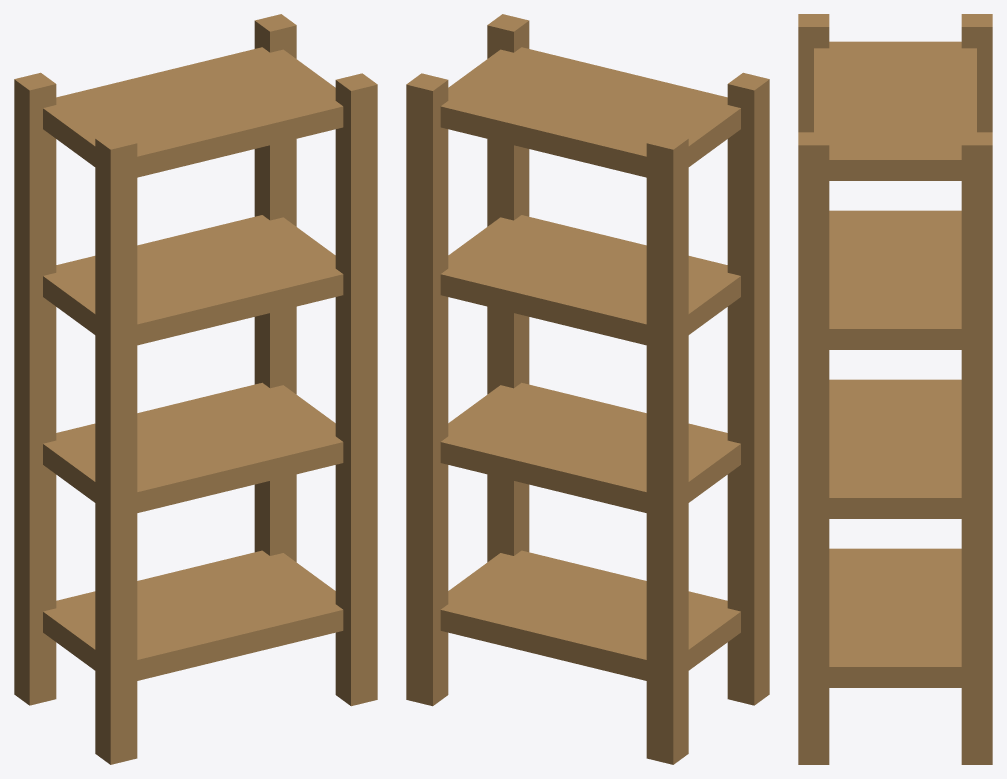
Rendered from bookcaseOpen.glb.
3 views of the same model, side by side, from view 1: azimuth 30°, elevation 25°; view 2: azimuth 150°, elevation 25°; view 3: azimuth 270°, elevation 25° (orthographic).
Visible parts, largest first — view 1: bookcaseOpen; view 2: bookcaseOpen; view 3: bookcaseOpen.
Part boxes in pixels (x1,y1,x2,y2): bookcaseOpen: [14, 14, 377, 764]; bookcaseOpen: [406, 14, 769, 764]; bookcaseOpen: [798, 14, 992, 764].
Size of the model in its own units: 0.8 by 1.76 by 0.5.
